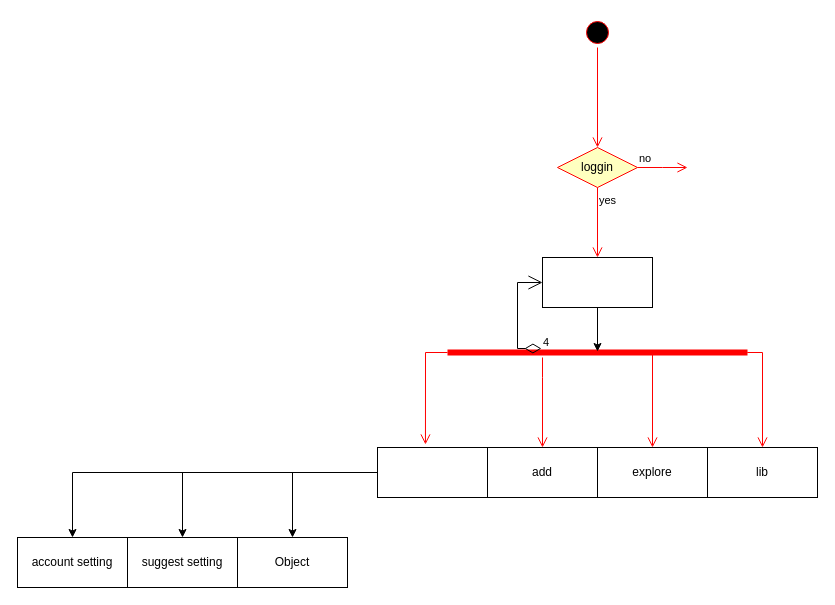
Some shapes in this 835 by 605 pixel diagram are drawn without their labels. Each missing label, with the box of its shape:
account: (376, 446, 488, 498)
home page: (542, 256, 652, 308)
